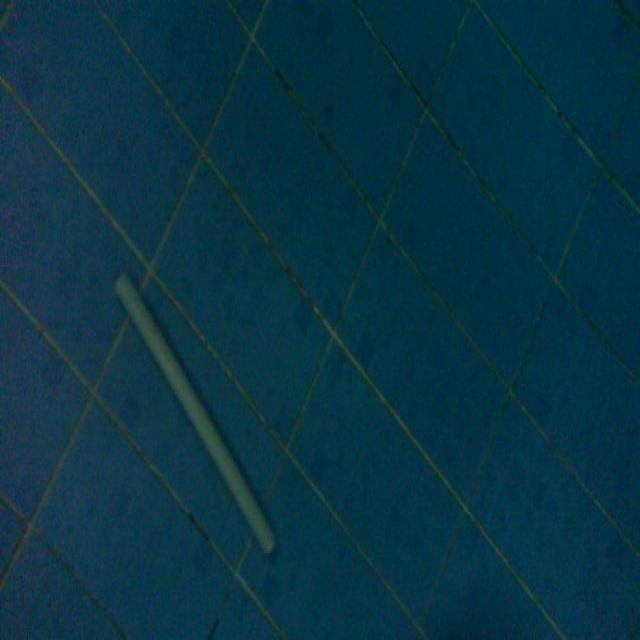Cube: (112, 263, 278, 558)
